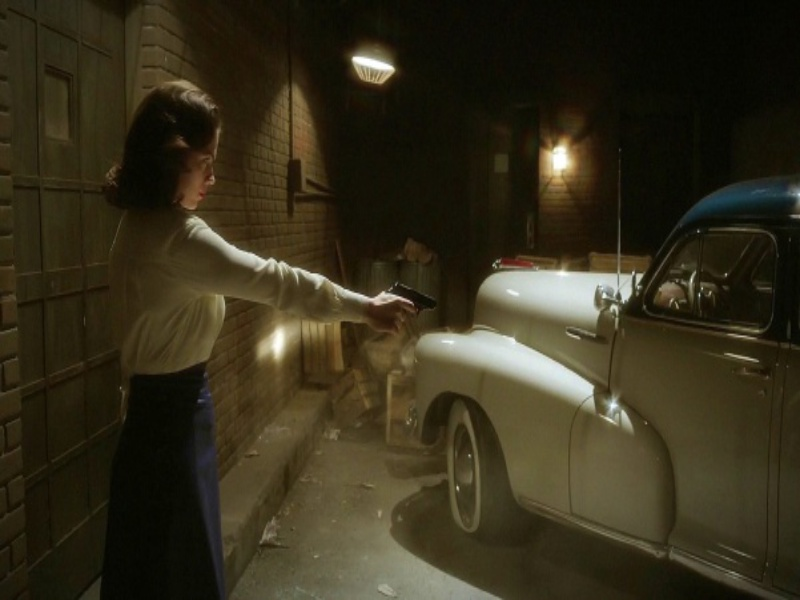person: (99, 80, 411, 599)
weapon: (385, 281, 439, 316)
